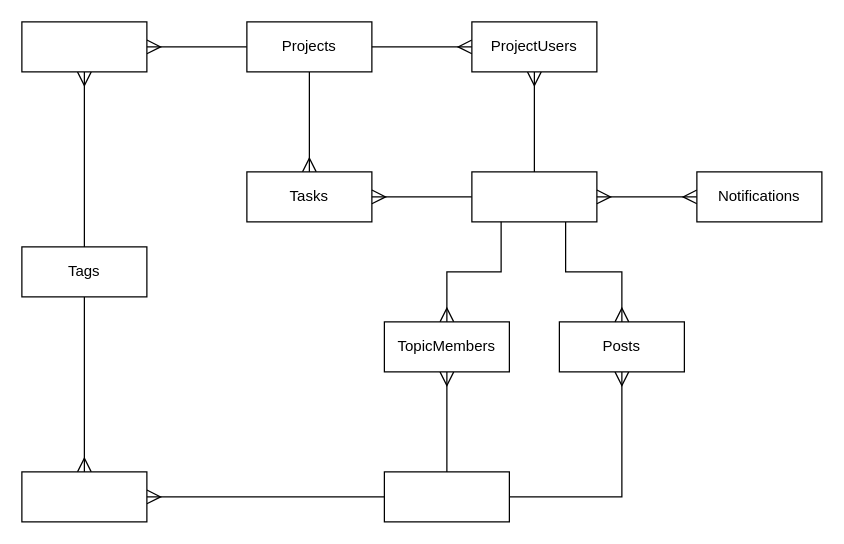
This 844x544 diagram has some shape labels left out. The shapes that lost their labels are listed below. From the top down, each one's centre as x and y in pixels, then its label:
the point at 84,46: Project Tags
the point at 534,196: User
the point at 84,496: Topic Tags
the point at 446,496: Topics
